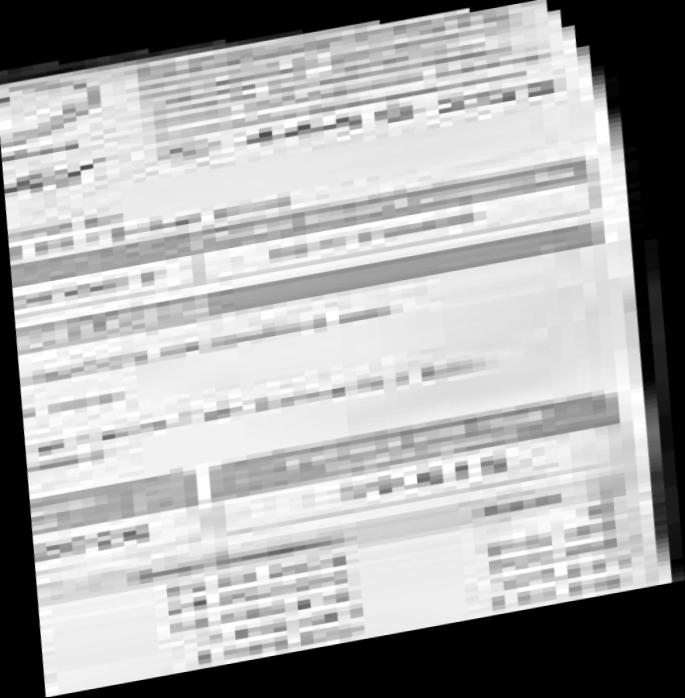electricity-bill: (0, 1, 685, 697)
